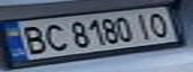0: (115, 15, 136, 43)
1: (84, 17, 106, 46)
8: (66, 18, 90, 48), (100, 15, 121, 45)
B: (15, 24, 51, 56)
C: (39, 21, 69, 53)
I: (133, 11, 157, 39)
O: (145, 10, 175, 38)
